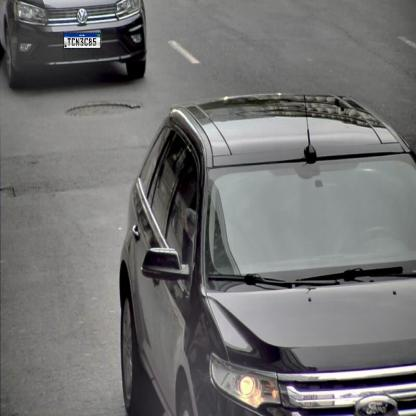PlacaM: (63, 32, 101, 48)
